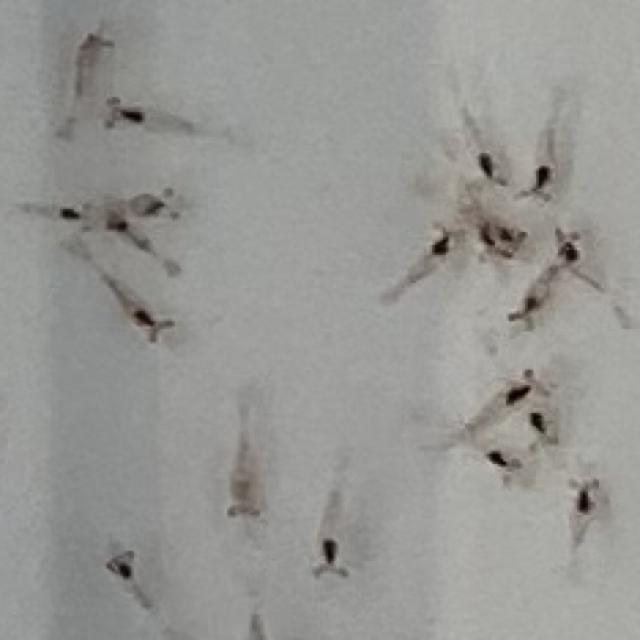shrimp-seed: (71, 28, 117, 97), (216, 464, 267, 524), (124, 186, 182, 224), (99, 210, 148, 252), (309, 536, 353, 582), (562, 472, 604, 520), (502, 290, 548, 333), (100, 94, 146, 135), (129, 306, 173, 348), (465, 148, 508, 190), (481, 448, 526, 488), (55, 193, 94, 238), (500, 371, 550, 406), (547, 226, 585, 270), (524, 162, 561, 205), (522, 408, 562, 446), (425, 220, 463, 260), (101, 546, 139, 580), (468, 215, 496, 251), (500, 224, 530, 252)
